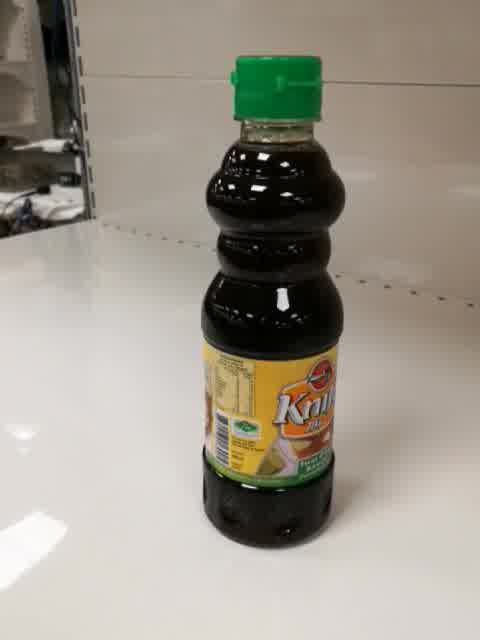cookingoil: (198, 53, 348, 551)
